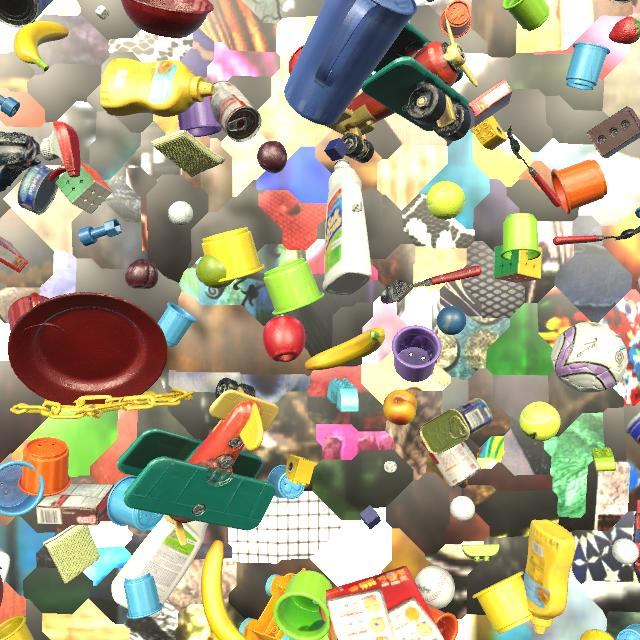ycb_002_master_chef_can: (0, 0, 53, 28), (625, 412, 640, 445)
ycb_003_cracker_box: (319, 565, 444, 640)
ycb_005_tomato_soup_can: (209, 81, 261, 142), (420, 440, 482, 488), (636, 276, 640, 294)
ycb_006_mustard_bottle: (100, 58, 215, 117), (524, 520, 576, 634)
ycb_007_tuna_fish_can: (17, 164, 59, 215), (609, 0, 632, 3)
ycb_008_pudding_box: (36, 483, 115, 526)
ycb_009_gelatin_box: (468, 79, 512, 127), (0, 236, 29, 273)
ycb_010_potted_meat_can: (420, 398, 492, 455)
ycb_011_banana: (201, 540, 247, 640), (305, 328, 385, 370), (14, 21, 69, 72)
ycb_012_strawberry: (609, 16, 640, 44)
ycb_013_apple: (263, 316, 305, 362)
ycb_014_lemon: (580, 629, 614, 640)
ycb_015_peach: (383, 389, 417, 425)
ycb_016_pear: (196, 254, 234, 289)
ycb_018_plum: (125, 259, 158, 289), (257, 141, 287, 173)
